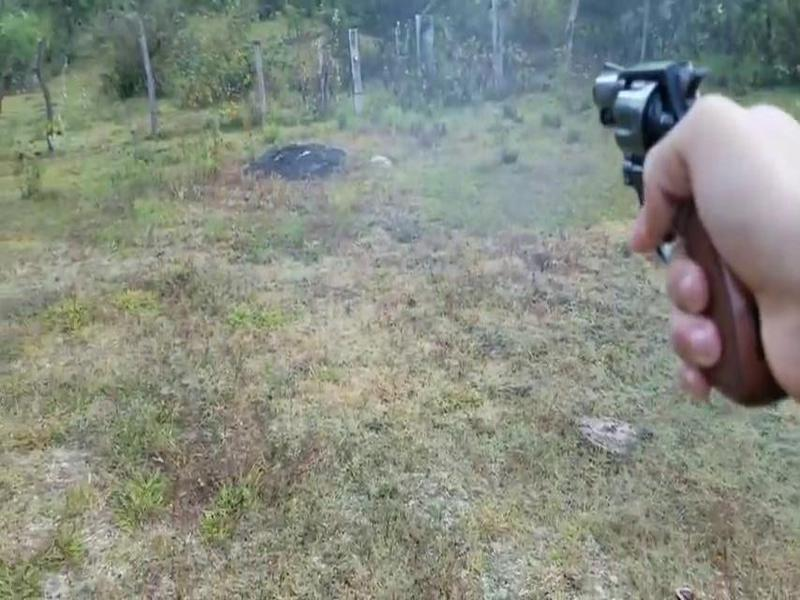Revolver: (590, 49, 770, 396)
